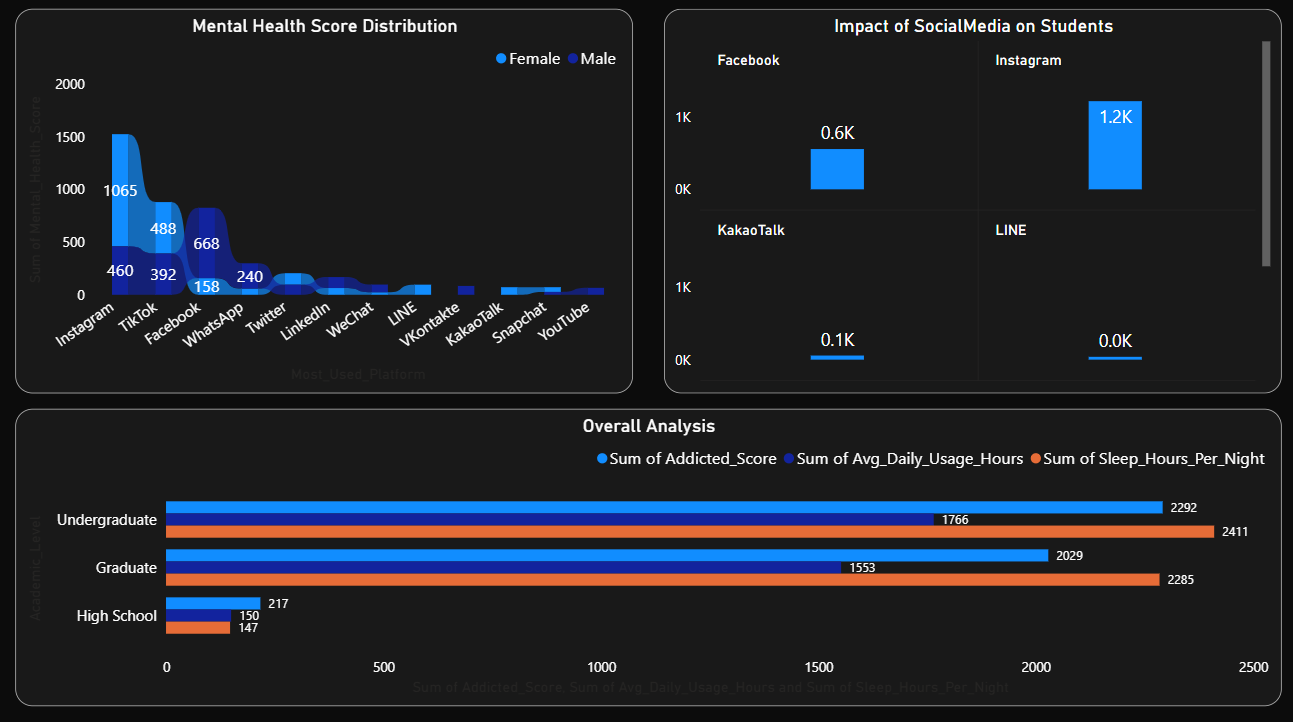

The dashboard page shown, as its layout file describes it:
{"tool":"powerbi","page":{"name":"Page 3","canvas":[1280,720],"ordinal":2},"visuals":[{"type":"ribbonChart","title":"Mental Health Score Distribution","fields":{"Category":["Students Social Media Addiction.Most_Used_Platform"],"Y":["Sum(Students Social Media Addiction.Mental_Health_Score)"],"Series":["Students Social Media Addiction.Gender"]},"box":[20.6,13.7,606.5,377.4],"z":0},{"type":"clusteredBarChart","title":"Overall Analysis","fields":{"Category":["Students Social Media Addiction.Academic_Level"],"Y":["Sum(Students Social Media Addiction.Addicted_Score)","Sum(Students Social Media Addiction.Avg_Daily_Usage_Hours)","Sum(Students Social Media Addiction.Sleep_Hours_Per_Night)"]},"box":[20.6,406.2,1243.2,292.3],"z":5},{"type":"columnChart","title":"Impact of SocialMedia on Students","fields":{"Y":["Sum(Students Social Media Addiction.Avg_Daily_Usage_Hours)"],"Rows":["Students Social Media Addiction.Most_Used_Platform"]},"box":[657.3,13.7,606.5,377.4],"z":6}]}

Visuals, with their boxes in screenshot pixels (x1, y1, x2, y2), scaled from the page's 1280x720 canvas onto the 1293x722 screenshot:
"Mental Health Score Distribution" ribbonChart: [x1=21, y1=14, x2=633, y2=392]
"Overall Analysis" clusteredBarChart: [x1=21, y1=407, x2=1277, y2=700]
"Impact of SocialMedia on Students" columnChart: [x1=664, y1=14, x2=1277, y2=392]
